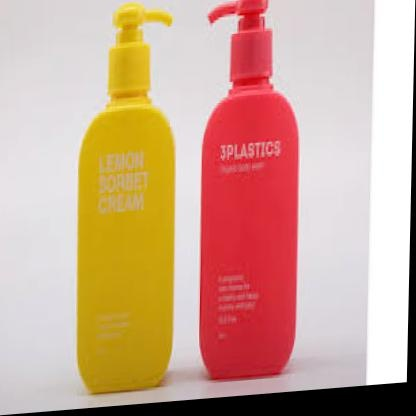trash: (77, 2, 174, 392), (200, 0, 297, 378)
